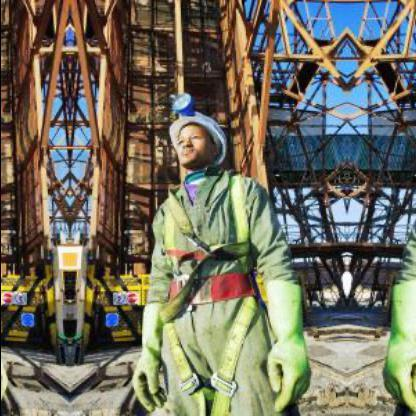Helmet: (164, 102, 224, 172)
